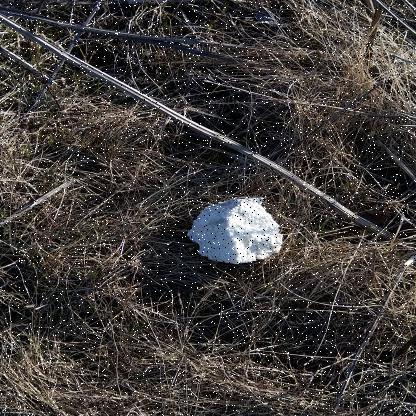foam: (187, 198, 283, 264)
